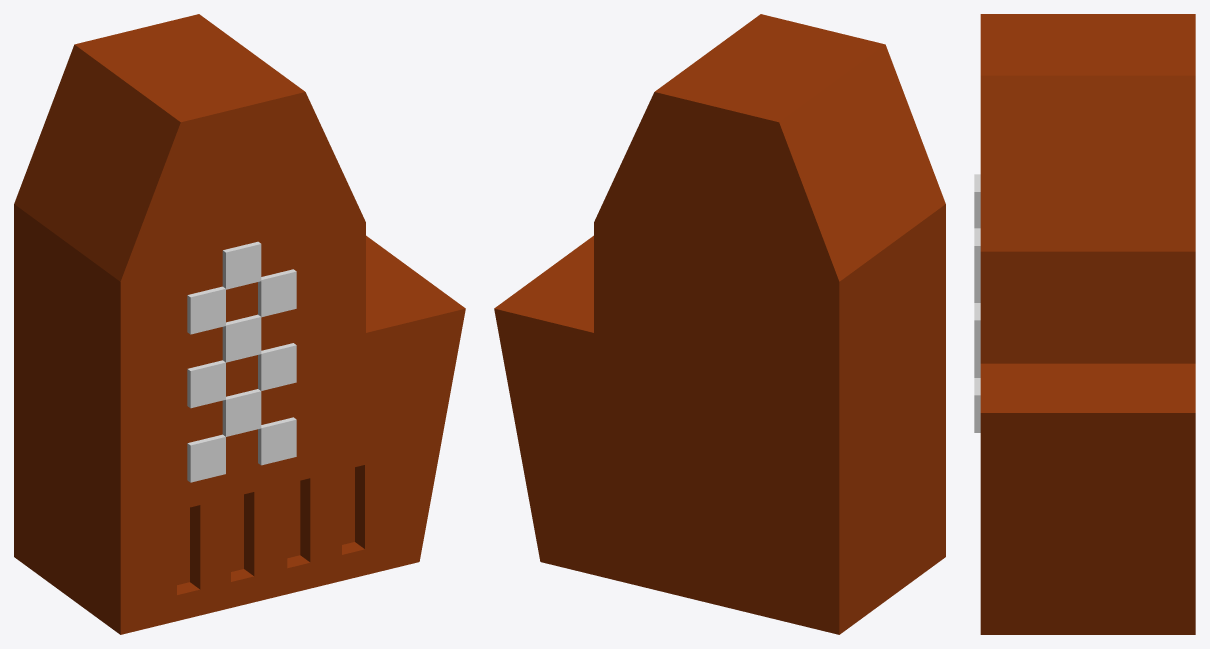
The model's file is 026 Hand_gloves.fbx.
The picture shows the model from 3 angles, left to right: view 1: azimuth 30°, elevation 25°; view 2: azimuth 150°, elevation 25°; view 3: azimuth 270°, elevation 25°; orthographic projection.
Visible parts, largest first — view 1: Lowpoly_Christmas_Pack_026:pCube16; view 2: Lowpoly_Christmas_Pack_026:pCube16; view 3: Lowpoly_Christmas_Pack_026:pCube16.
Boxes of the visible parts, x1=… form: Lowpoly_Christmas_Pack_026:pCube16: x1=14, y1=14, x2=465, y2=634; Lowpoly_Christmas_Pack_026:pCube16: x1=494, y1=14, x2=945, y2=634; Lowpoly_Christmas_Pack_026:pCube16: x1=974, y1=14, x2=1195, y2=634.
Size of the model in its own units: 0.7462 by 1.03 by 0.4102.
